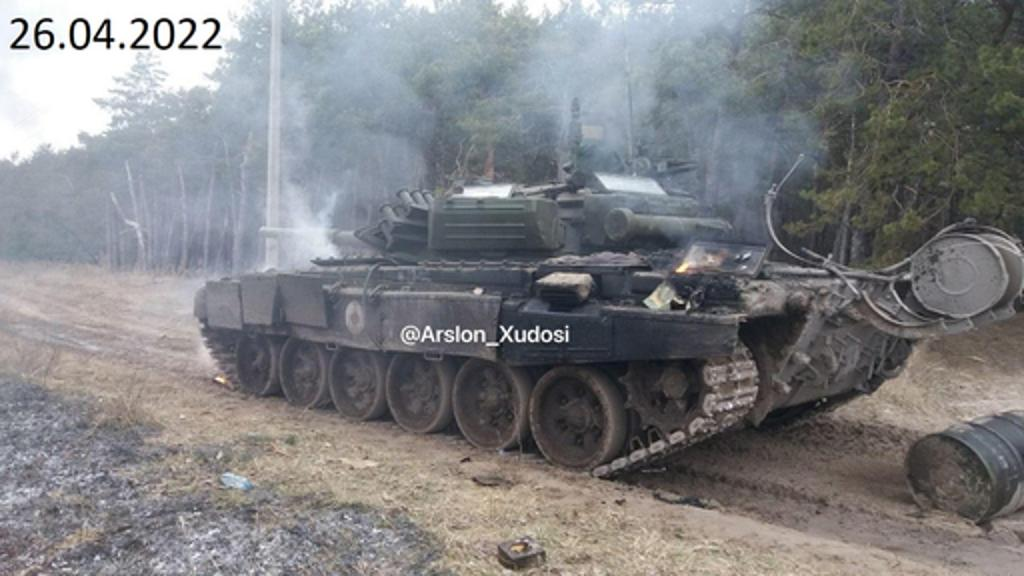TANK: (196, 164, 1014, 480)
